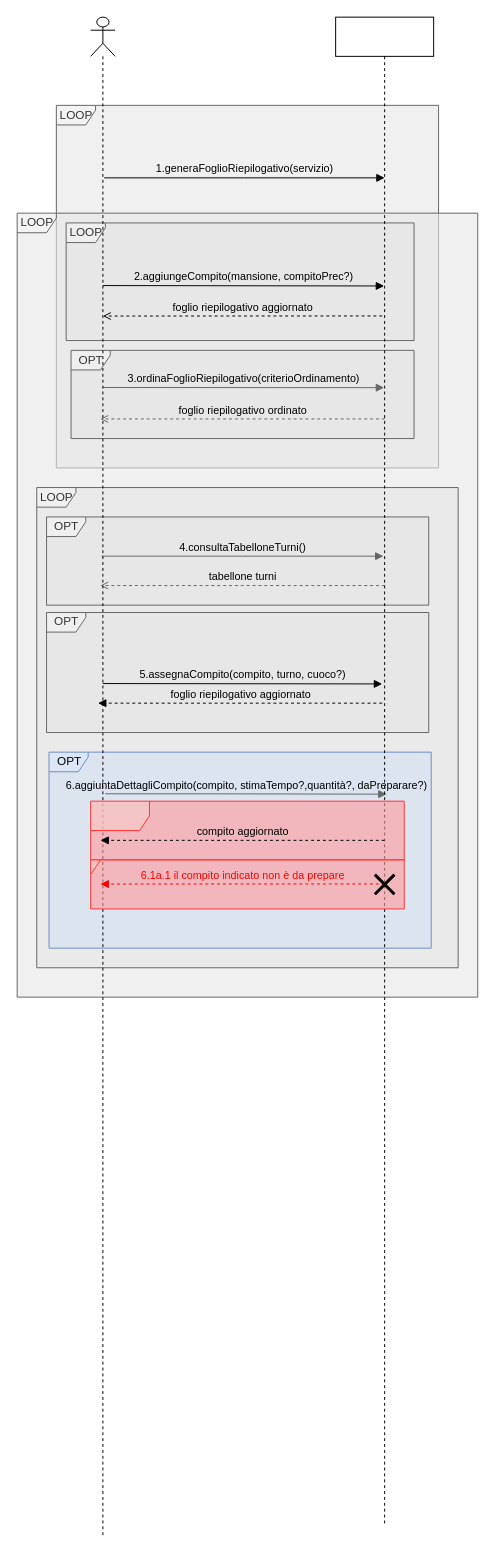
Some shapes in this 495 by 1553 pixel diagram are drawn without their labels. The shapes that lost their labels are listed below. From the top down, each one's box as (x1, y1, x2, y2) in pixels, then its label:
(90, 16, 115, 1536): Chef
(335, 16, 434, 1526): Sistema
(90, 800, 404, 860): ALT
